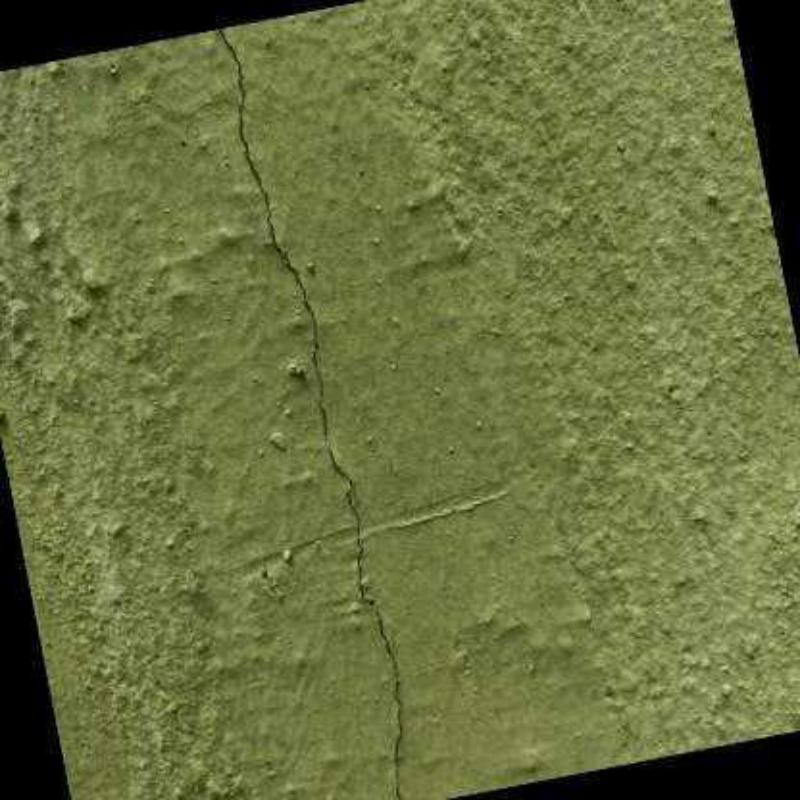pothole: (218, 28, 402, 798)
